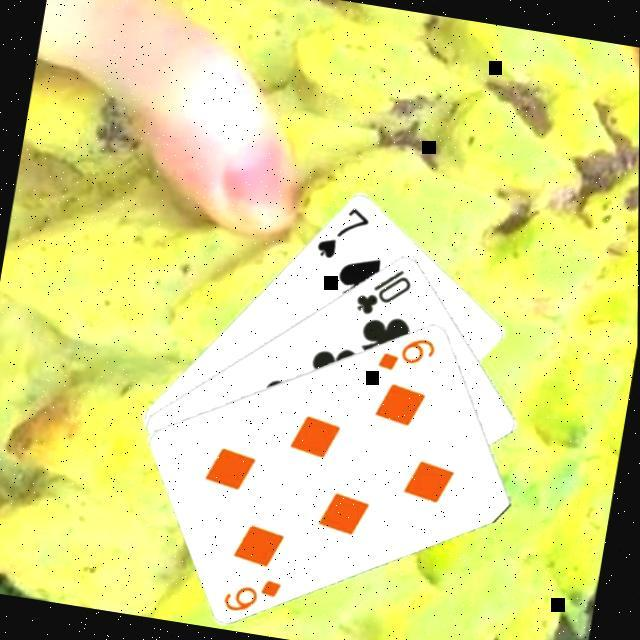10C: (353, 258, 419, 322)
6D: (375, 327, 443, 379), (221, 567, 289, 619)
7S: (314, 197, 377, 265)
